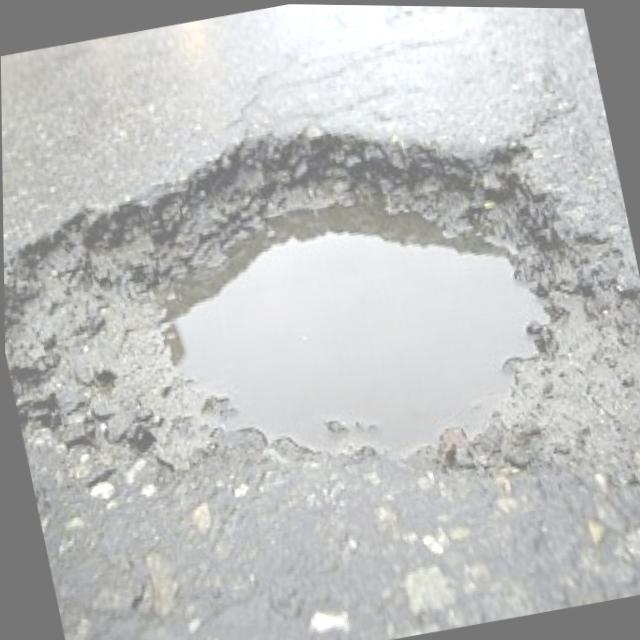Pothole: (4, 124, 640, 481)
